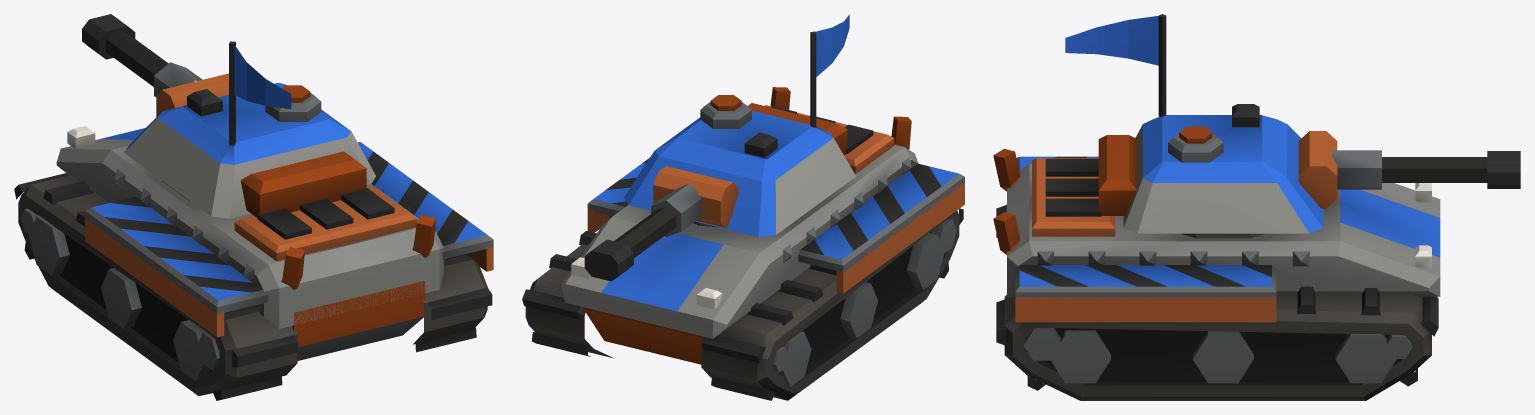
The model's file is panshi.glb.
3 renders of one model, left to right at view 1: azimuth 30°, elevation 25°; view 2: azimuth 150°, elevation 25°; view 3: azimuth 270°, elevation 25°, orthographic. The views are drawn at different scales.
Parts seen in each view (by area): view 1: body, turret, barrel, swayFlag, spinSprocketL; view 2: body, turret, barrel, swayFlag, spinSprocketL; view 3: body, turret, barrel, swayFlag, spinSprocketR.
Part boxes in pixels (box(x1,y1,x2,y2)): body: box(14, 126, 493, 400); turret: box(124, 41, 375, 218); barrel: box(82, 14, 202, 96); swayFlag: box(234, 45, 291, 109); spinSprocketL: box(198, 332, 219, 370); body: box(522, 87, 964, 400); turret: box(624, 31, 856, 236); barrel: box(584, 183, 701, 281); swayFlag: box(815, 14, 849, 76); spinSprocketL: box(931, 218, 956, 253); body: box(993, 148, 1440, 400); turret: box(1098, 14, 1337, 238); barrel: box(1332, 150, 1520, 189); swayFlag: box(1065, 16, 1158, 65); spinSprocketR: box(1023, 328, 1062, 360).
Size of the model in its own units: 1.14 by 1.2 by 1.9.
